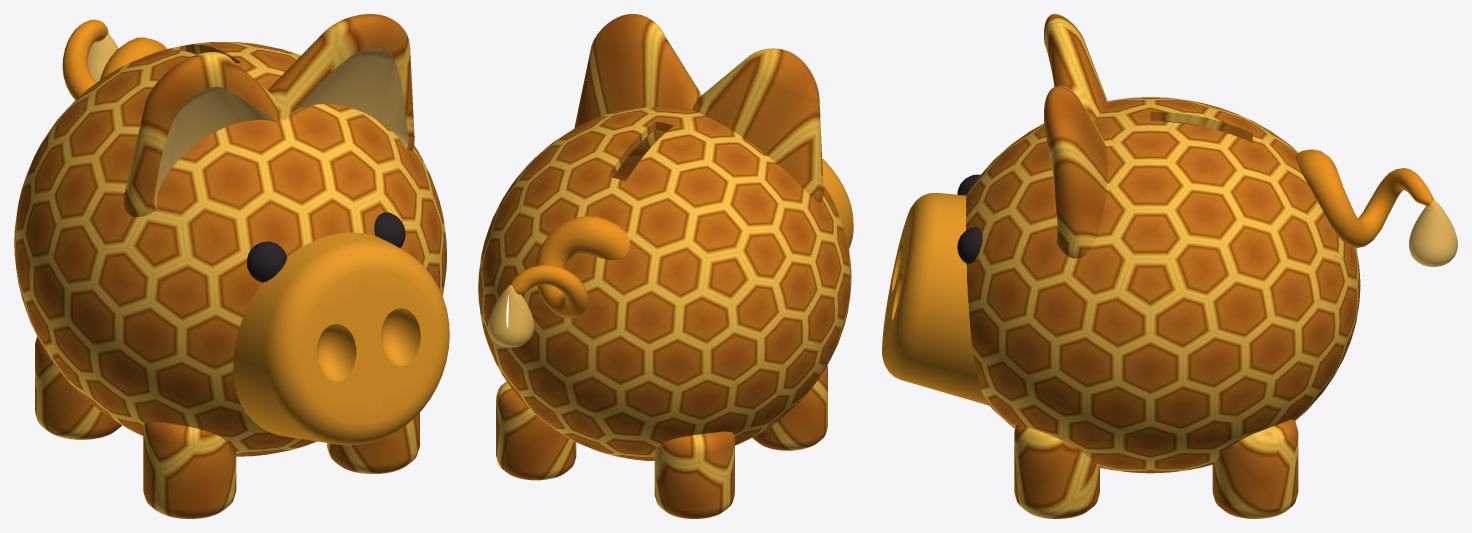
File: honeycomb-complete.fbx
The picture shows the model from 3 angles, left to right: view 1: azimuth 30°, elevation 25°; view 2: azimuth 150°, elevation 25°; view 3: azimuth 270°, elevation 25°; orthographic projection. The views are drawn at different scales.
Visible parts, largest first — view 1: Body, Snout, Ears, Legs, Tail, Eyes, HoneyDrop; view 2: Body, Ears, Legs, Tail, HoneyDrop, Snout; view 3: Body, Snout, Legs, Ears, Tail, HoneyDrop, Eyes.
Boxes of the visible parts, x1,y1,x2,y2 form: Body: (14,42,446,456); Snout: (233,232,449,445); Ears: (123,14,414,216); Legs: (35,336,419,518); Tail: (62,19,166,100); Eyes: (247,212,405,282); HoneyDrop: (87,33,118,82); Body: (478,107,851,460); Ears: (574,14,823,202); Legs: (496,366,827,518); Tail: (510,215,629,318); HoneyDrop: (488,285,534,347); Snout: (822,158,853,248); Body: (966,97,1360,473); Snout: (882,192,988,405); Legs: (1014,419,1298,518); Ears: (1044,14,1107,258); Tail: (1295,149,1434,247); HoneyDrop: (1409,200,1457,266); Eyes: (957,174,982,263).
Size of the model in its own units: 1200 by 1397 by 1777.
Materials: 5 (2 with a texture image).
